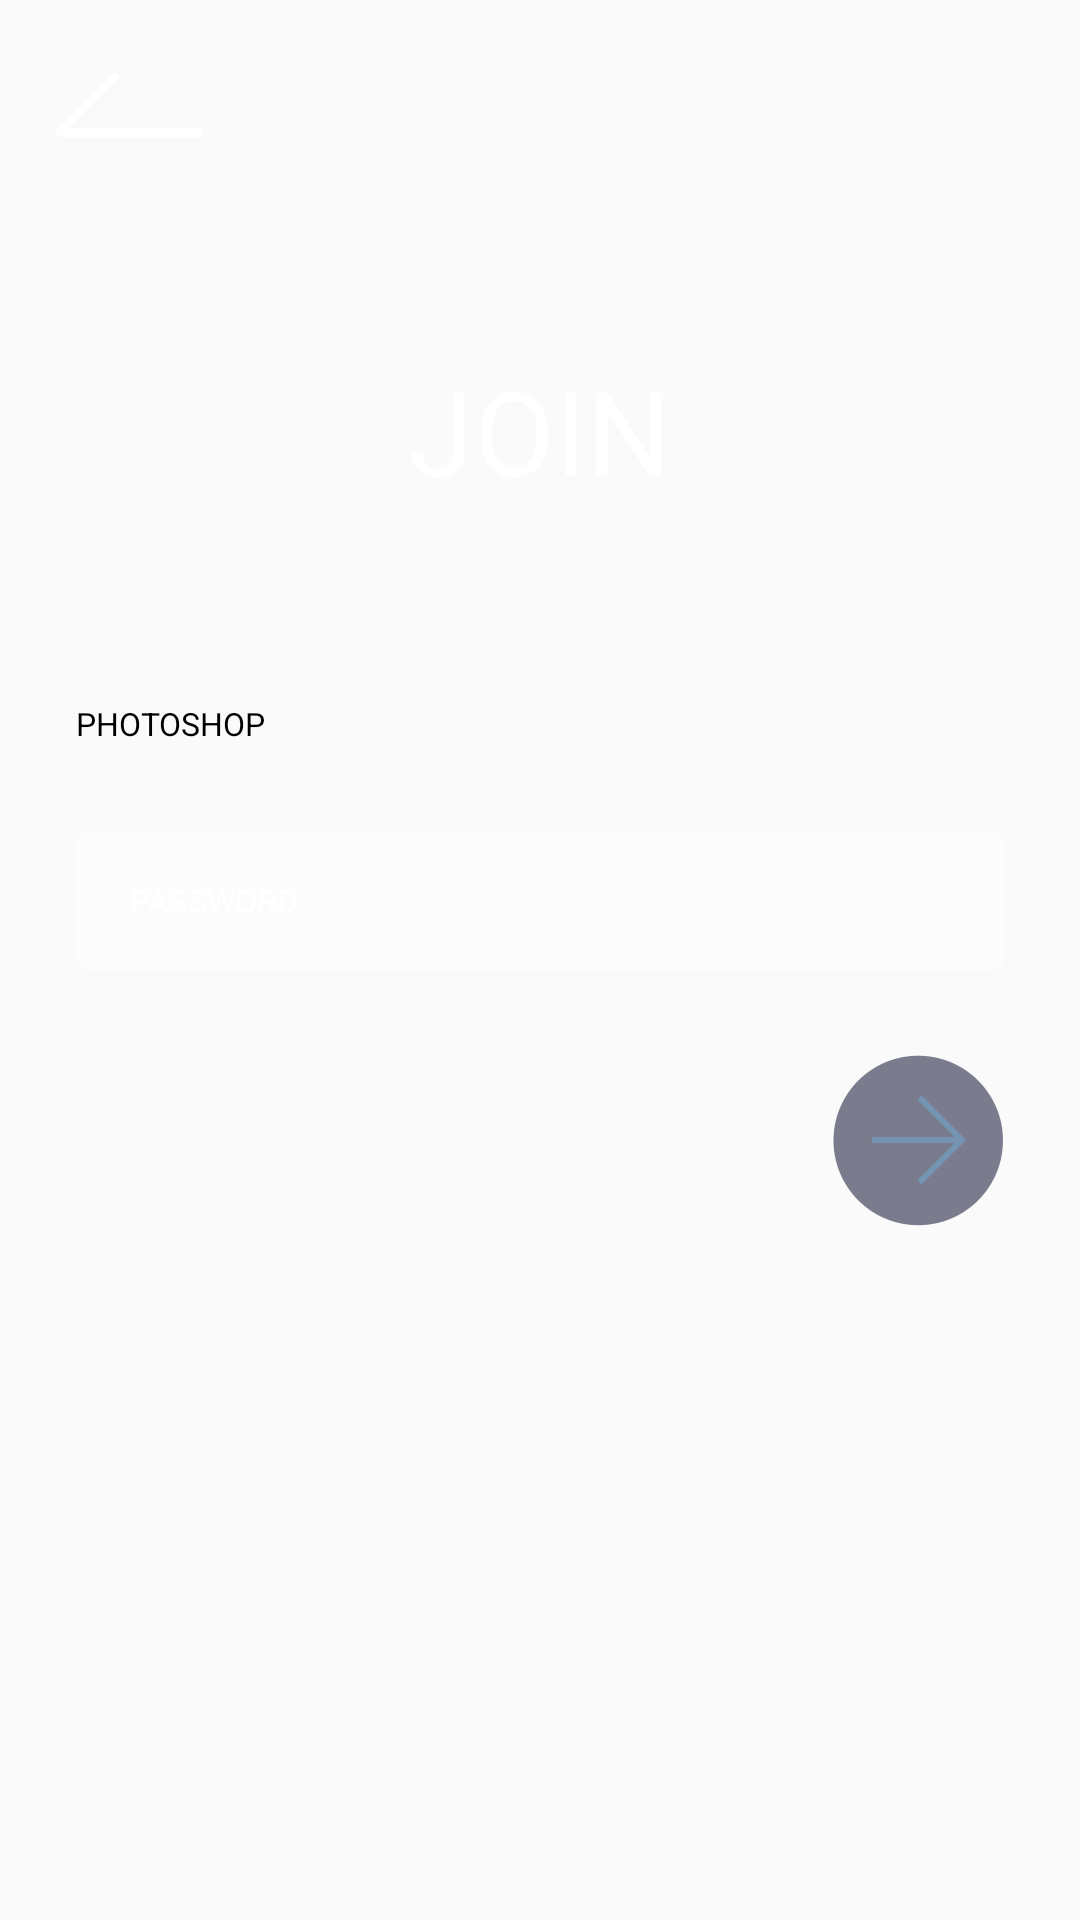

Named icons in this screenshot (1080 × 1920) and their centers, (x,y):
next: (918,1140)
